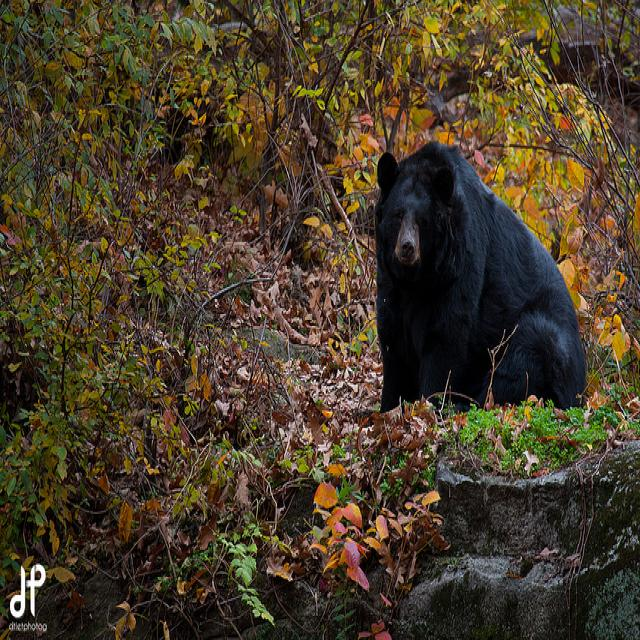Bear: (362, 136, 590, 409)
